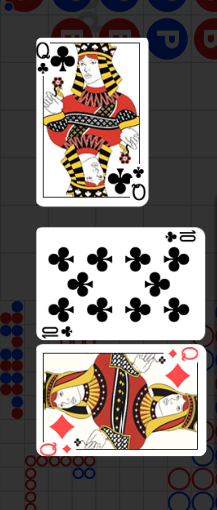10C: (163, 230, 197, 245)
JC: (37, 44, 51, 76)
QD: (36, 400, 83, 444), (157, 333, 203, 377)
